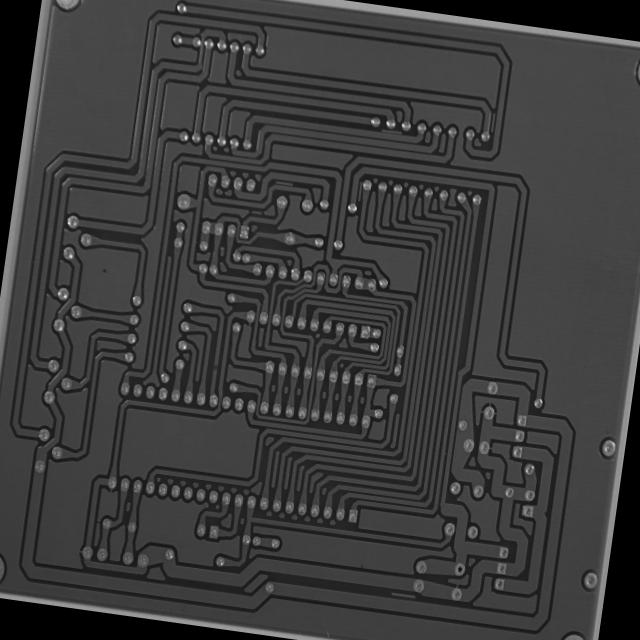spurious_copper: (388, 586, 420, 604), (485, 108, 500, 136), (378, 122, 404, 138), (272, 175, 296, 191), (250, 206, 264, 216)
